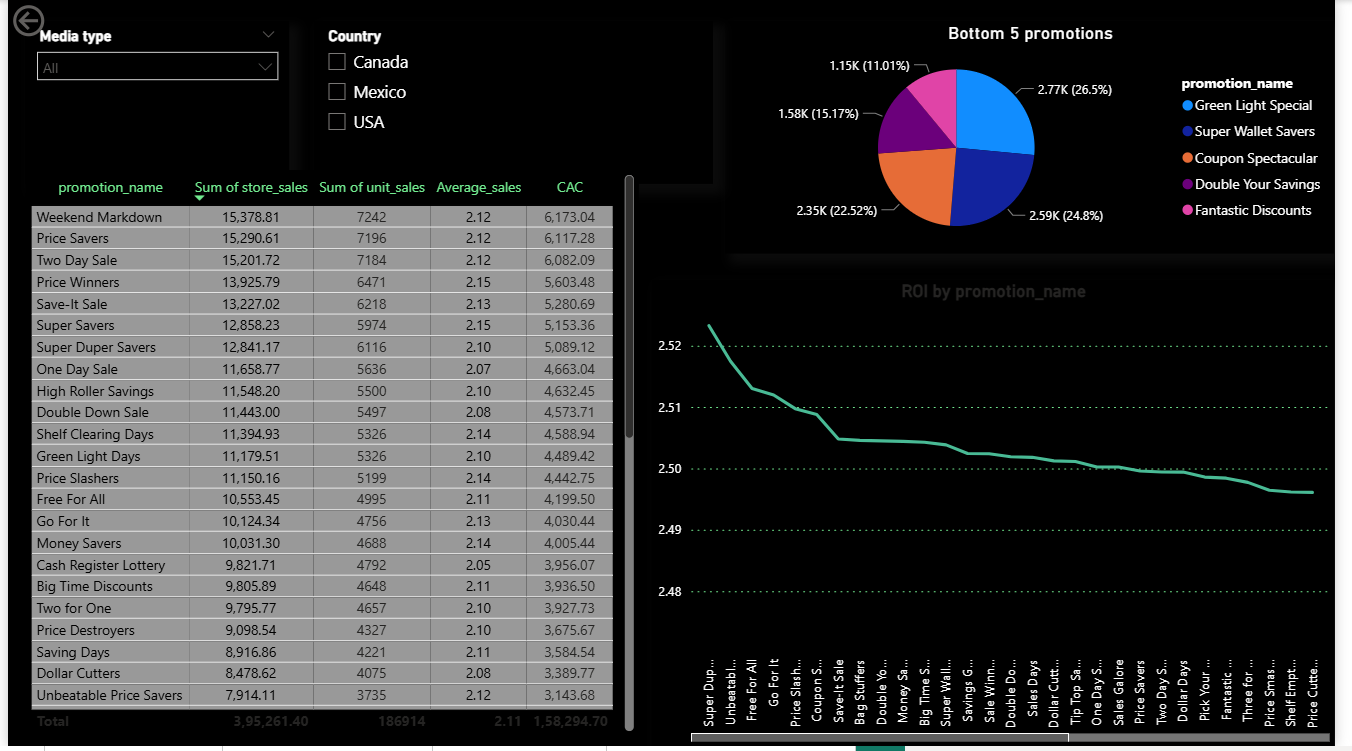

What the dashboard file says about the page in this screenshot:
{"tool":"powerbi","page":{"name":"Promo & media effectiveness","canvas":[1280,720],"ordinal":4},"visuals":[{"type":"slicer","fields":{"Values":["media prediction and its cost.media_type"]},"box":[16.9,20.5,254.6,156.8],"z":0},{"type":"actionButton","box":[0,0,100,40],"z":1000},{"type":"pieChart","title":"Bottom 5 promotions","fields":{"Y":["media prediction and its cost.Total_sales"],"Category":["media prediction and its cost.promotion_name"]},"box":[693,20.6,587.3,223.7],"z":2000},{"type":"slicer","fields":{"Values":["media prediction and its cost.sales_country"]},"box":[295.6,20.5,384.9,156.8],"z":3000},{"type":"lineChart","fields":{"Category":["media prediction and its cost.promotion_name"],"Y":["media prediction and its cost.ROI"]},"box":[621.3,270.2,658.7,450],"z":4000},{"type":"tableEx","fields":{"Values":["media prediction and its cost.promotion_name","Sum(media prediction and its cost.store_sales)","Sum(media prediction and its cost.unit_sales)","media prediction and its cost.Average_sales","media prediction and its cost.CAC"]},"box":[16.9,164.1,592.4,546.5],"z":5000}]}

Visuals, with their boxes in screenshot pixels (x1, y1, x2, y2), scaled from the page's 1280x720 canvas onto the 1352x751 screenshot:
slicer - media prediction and its cost.media_type: crop(18, 21, 287, 185)
actionButton: crop(0, 0, 106, 42)
"Bottom 5 promotions" pieChart: crop(732, 21, 1351, 255)
slicer - media prediction and its cost.sales_country: crop(312, 21, 719, 185)
lineChart - media prediction and its cost.promotion_name x media prediction and its cost.ROI: crop(656, 282, 1351, 750)
tableEx - media prediction and its cost.promotion_name x Sum(media prediction and its cost.store_sales): crop(18, 171, 644, 741)
